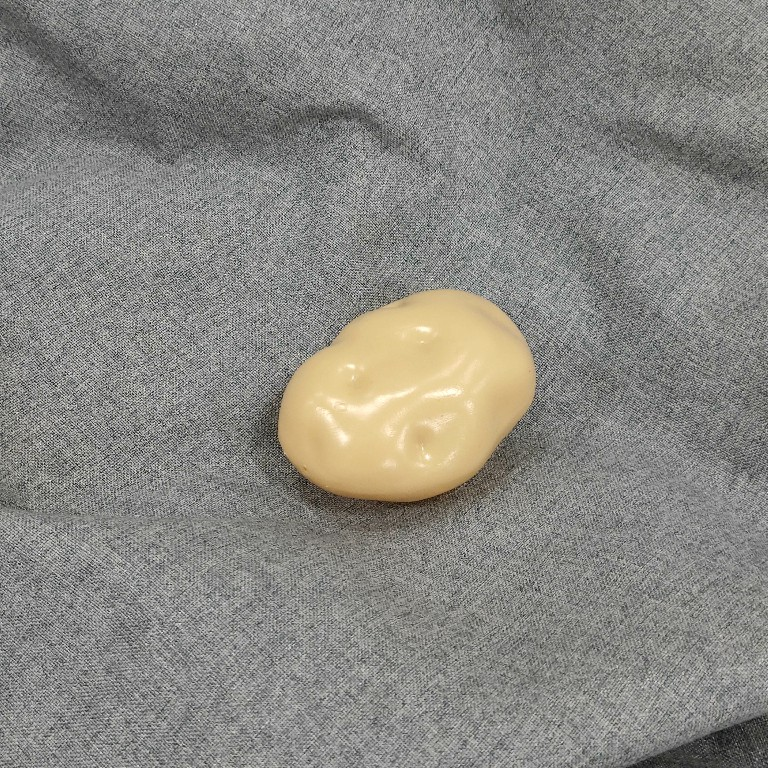fruit_potato: (269, 283, 542, 505)
